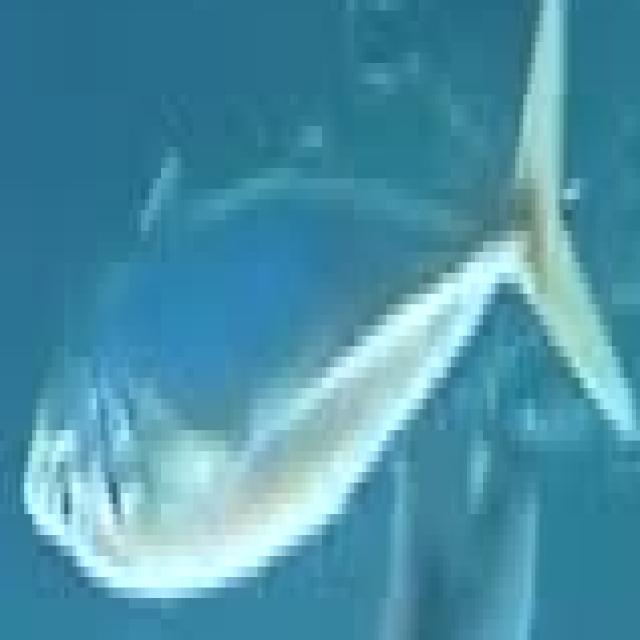fish: (0, 0, 636, 630)
